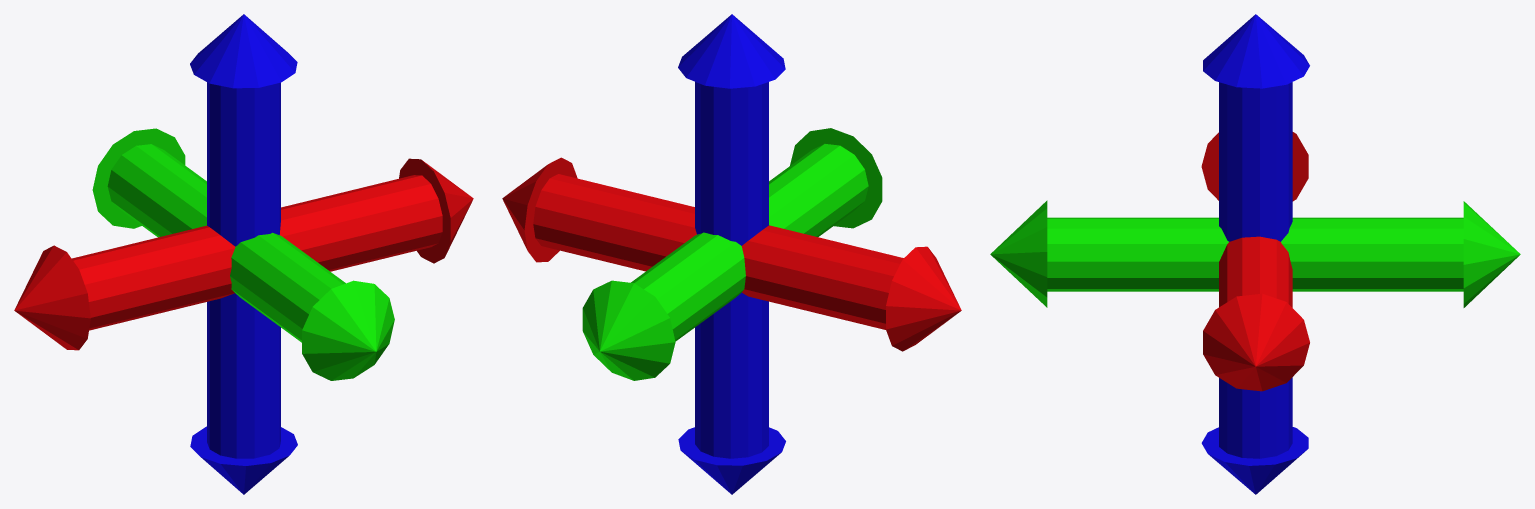
Rendered from GyroExample.fbx.
3 views of the same model, side by side, from view 1: azimuth 30°, elevation 25°; view 2: azimuth 150°, elevation 25°; view 3: azimuth 270°, elevation 25° (orthographic).
Parts seen in each view (by area): view 1: Cone.001; view 2: Cone.001; view 3: Cone.001.
Part boxes in pixels (<box>): Cone.001: <box>14,14,473,494</box>; Cone.001: <box>502,14,961,494</box>; Cone.001: <box>990,14,1520,494</box>.
Bounding box in the file's own units: 994 × 994 × 994.
